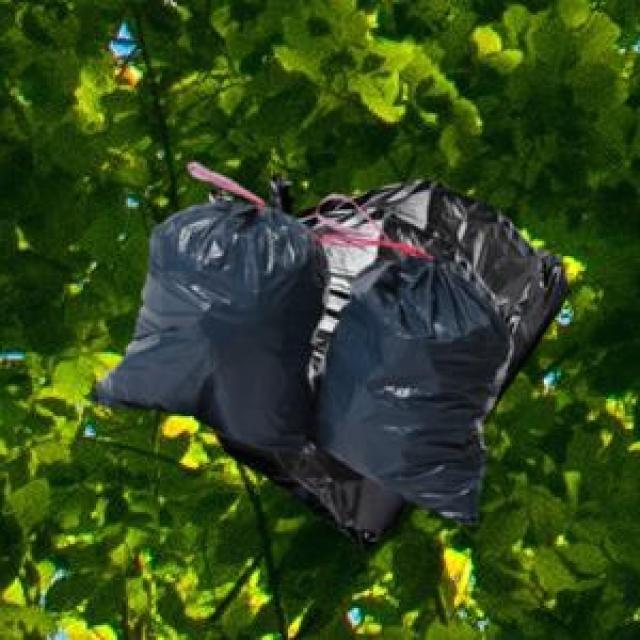Trashbag: (85, 202, 331, 456), (325, 258, 518, 523)
